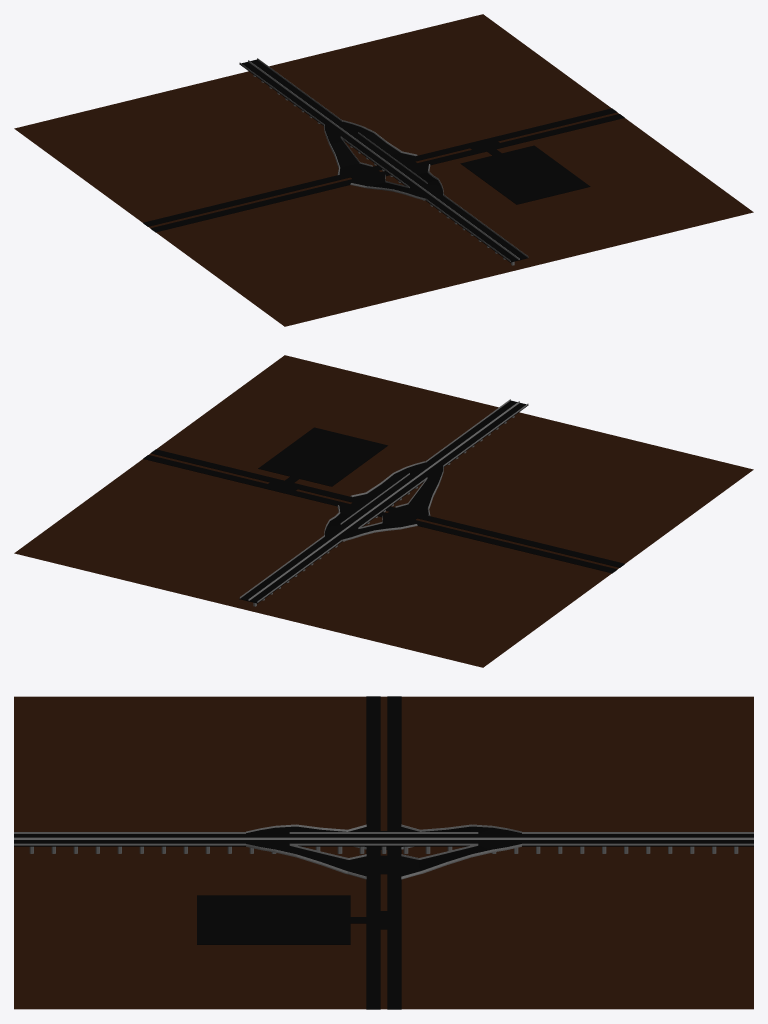
The model's file is road.glb.
3 views of the same model, one above another, from view 1: azimuth 30°, elevation 25°; view 2: azimuth 150°, elevation 25°; view 3: azimuth 270°, elevation 25° (orthographic). The views are drawn at different scales.
Parts seen in each view (by area): view 1: ground, lower road, exit; view 2: ground, lower road, exit; view 3: ground, lower road, exit.
Part boxes in pixels (x1,y1,x2,y2): ground: (14,14,753,326); lower road: (143,108,624,232); exit: (239,58,528,265); ground: (14,355,753,667); lower road: (143,427,624,573); exit: (239,399,528,606); ground: (14,696,753,1009); lower road: (197,696,401,1009); exit: (14,824,753,879).
Bounding box in the file's own units: 640 × 15.09 × 640.
